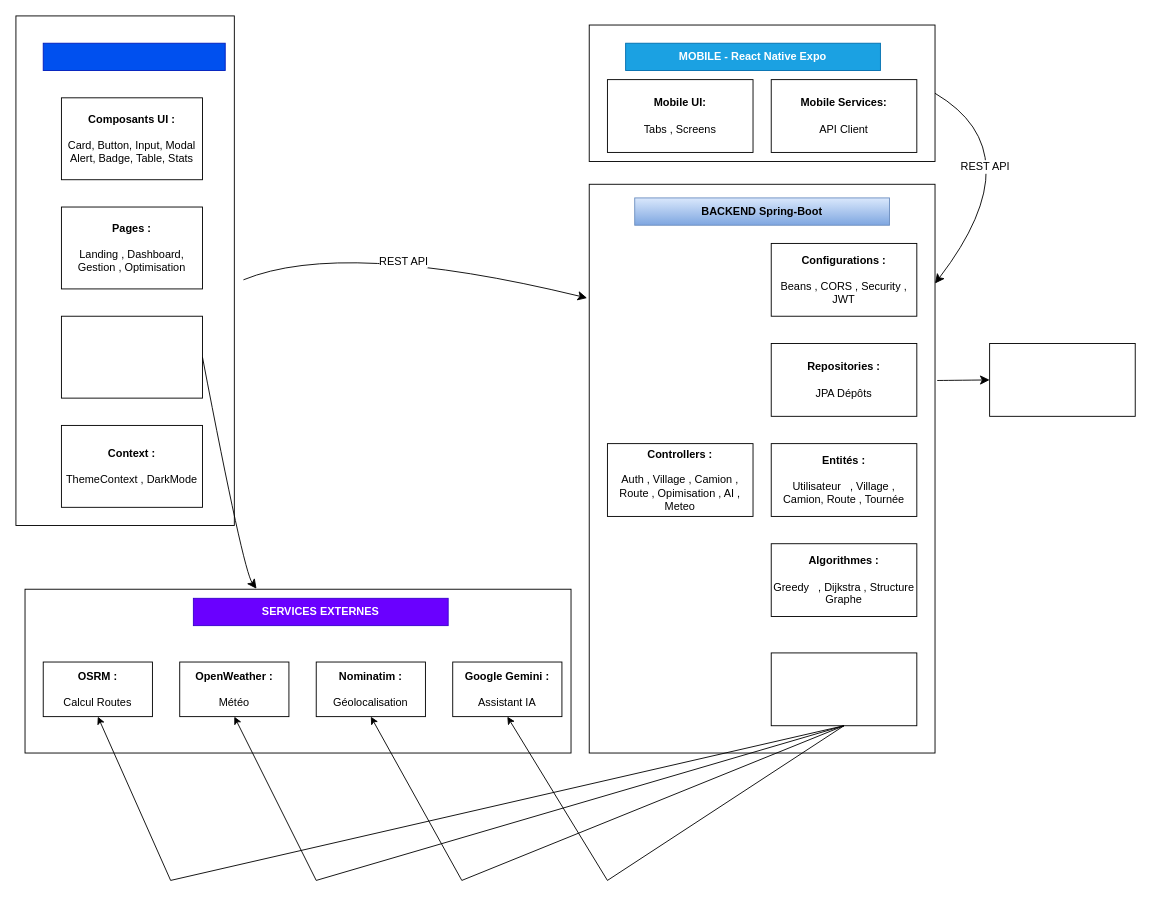
The diagram is 1151 pixels wide and 904 high, and some of its shapes have lost their labels. Here are the shapes that lost their labels. From the top down, the centre of each, then its label:
At [133,56]: "FRONTEND - ReactVite".
At [131,356]: "Services: API , Météo, Nominantim , Stockage".
At [1062,379]: "MySQl Database : V illages , Camions , Routes , Optimisations".
At [843,689]: "Services : Optimisation , Météo , Assistant AI , Métier".
